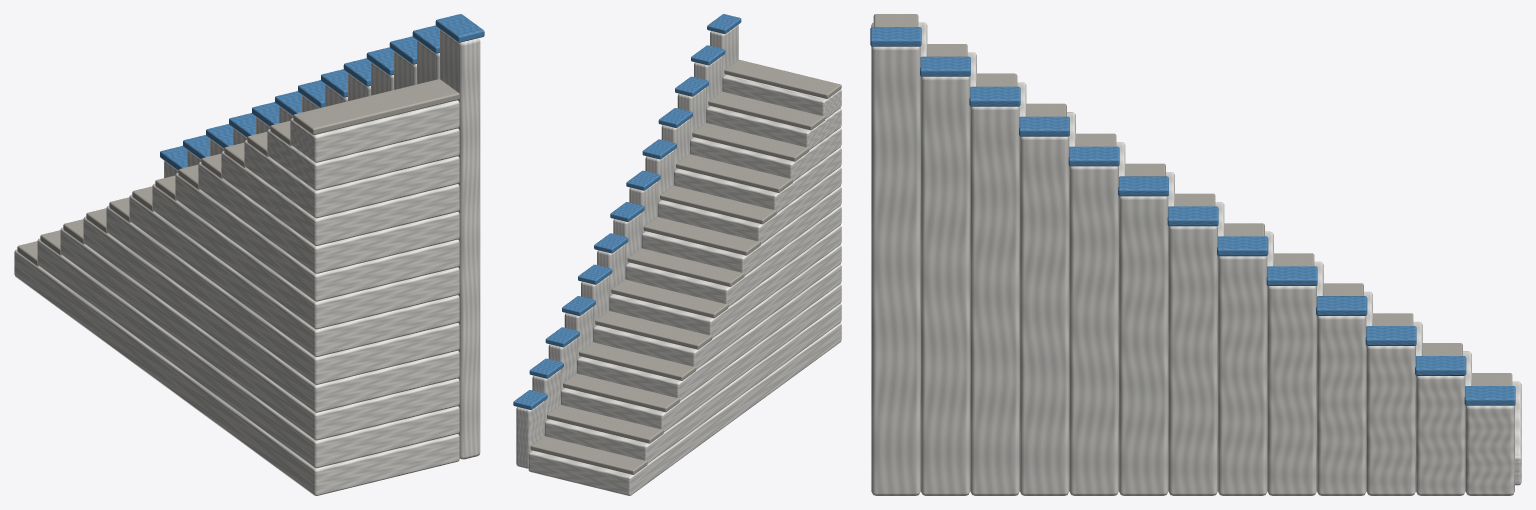
Rendered from greek-island-village-and-harbour-external-stair-run-4e3deeba__37067.glb.
3 views of the same model, side by side, from view 1: azimuth 30°, elevation 25°; view 2: azimuth 150°, elevation 25°; view 3: azimuth 270°, elevation 25° (orthographic). The views are drawn at different scales.
Parts seen in each view (by area): view 1: external-stair-run; view 2: external-stair-run; view 3: external-stair-run.
Part boxes in pixels (<box>): external-stair-run: <box>14,14,484,495</box>; external-stair-run: <box>513,14,841,495</box>; external-stair-run: <box>870,14,1521,495</box>.
Bounding box in the file's own units: 1.29 × 3.07 × 3.95.
Materials: 3 (3 with a texture image).
